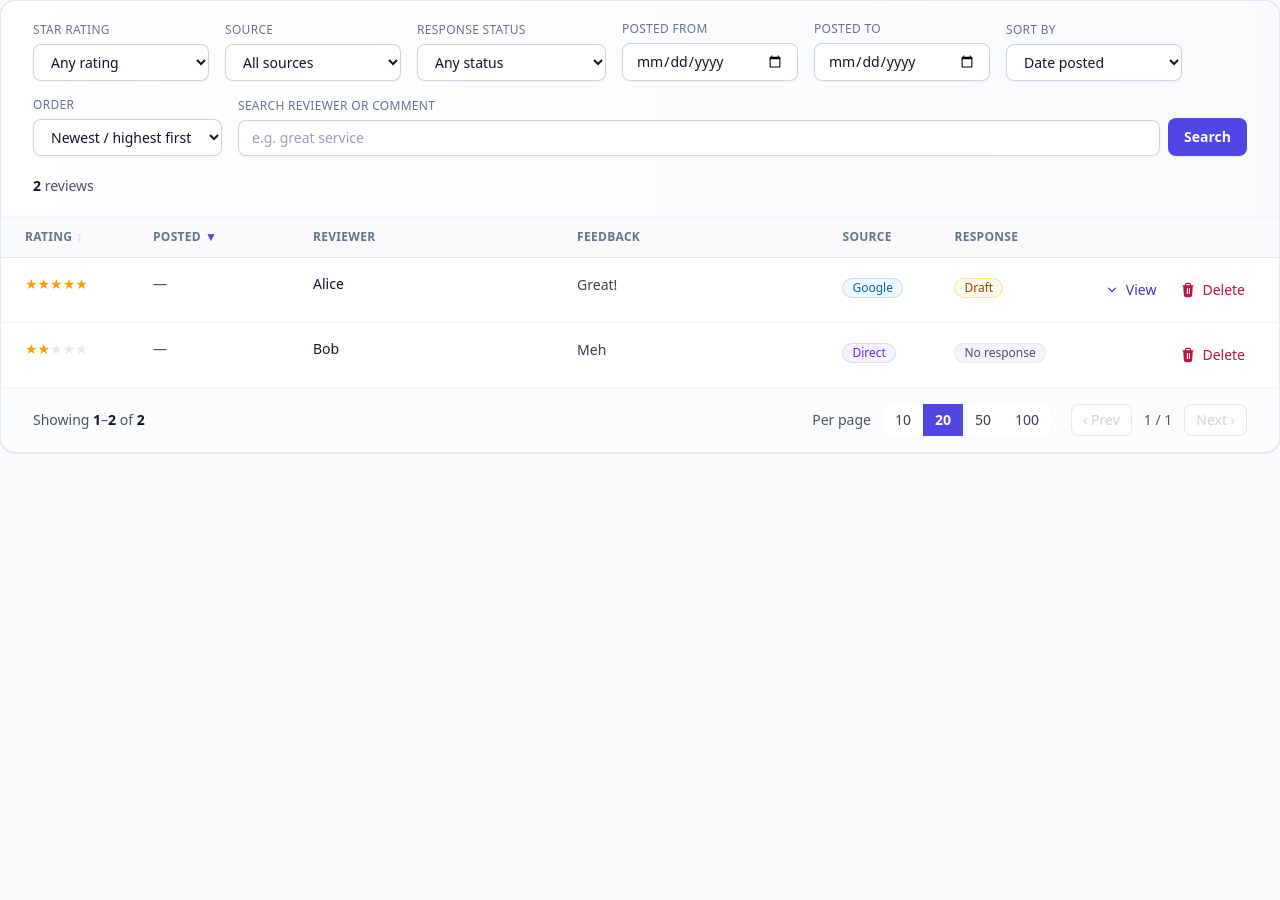
Test: Review Management — ReviewPanel › AI response workflow — expand, accept, regenerate › surfaces an error-toast when regeneration is blocked by moderation
Click the button "View" at [1130, 290], box [1094,274,1166,306]
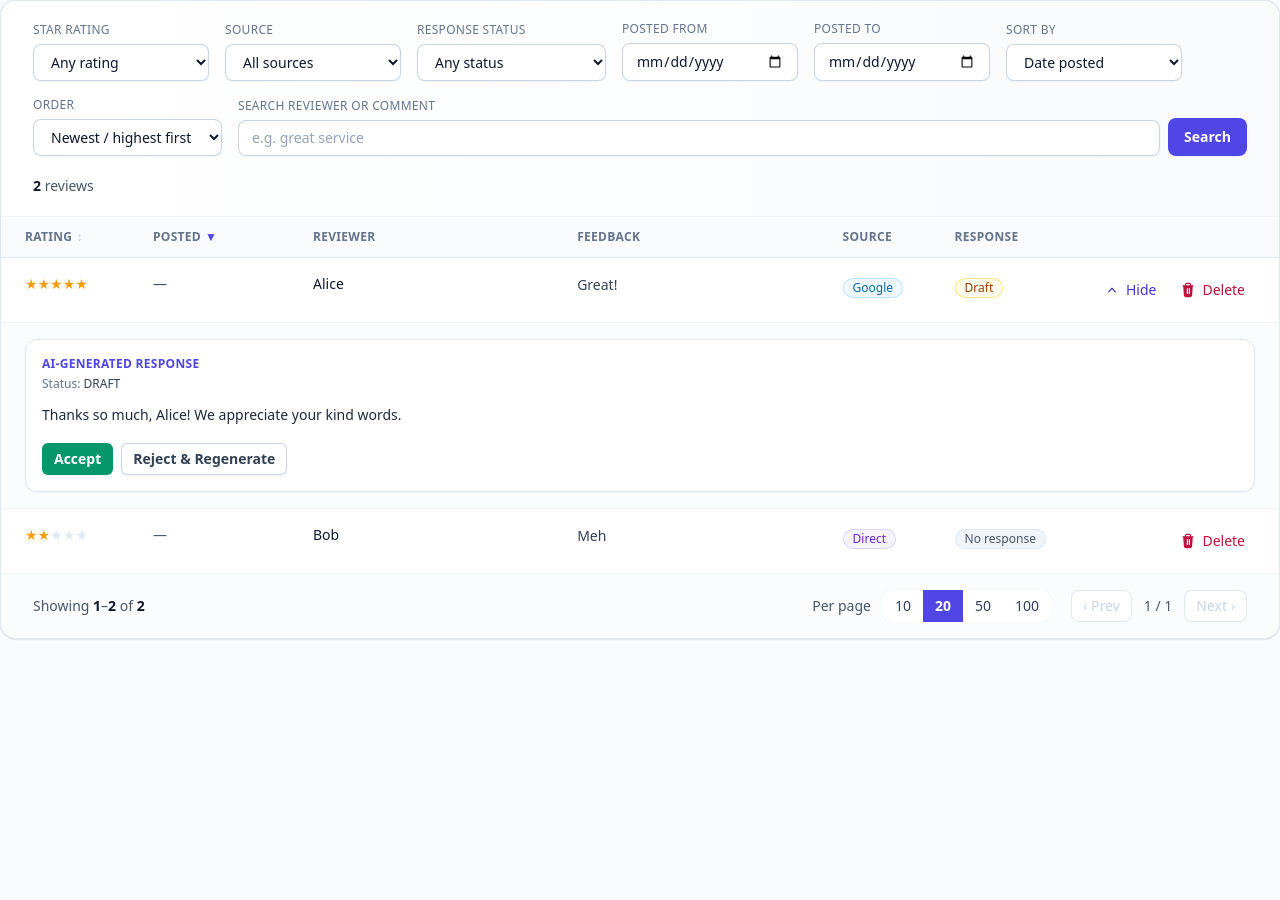
Click the button with test id "regenerate-response-r1" at [204, 459], box [121,443,287,475]
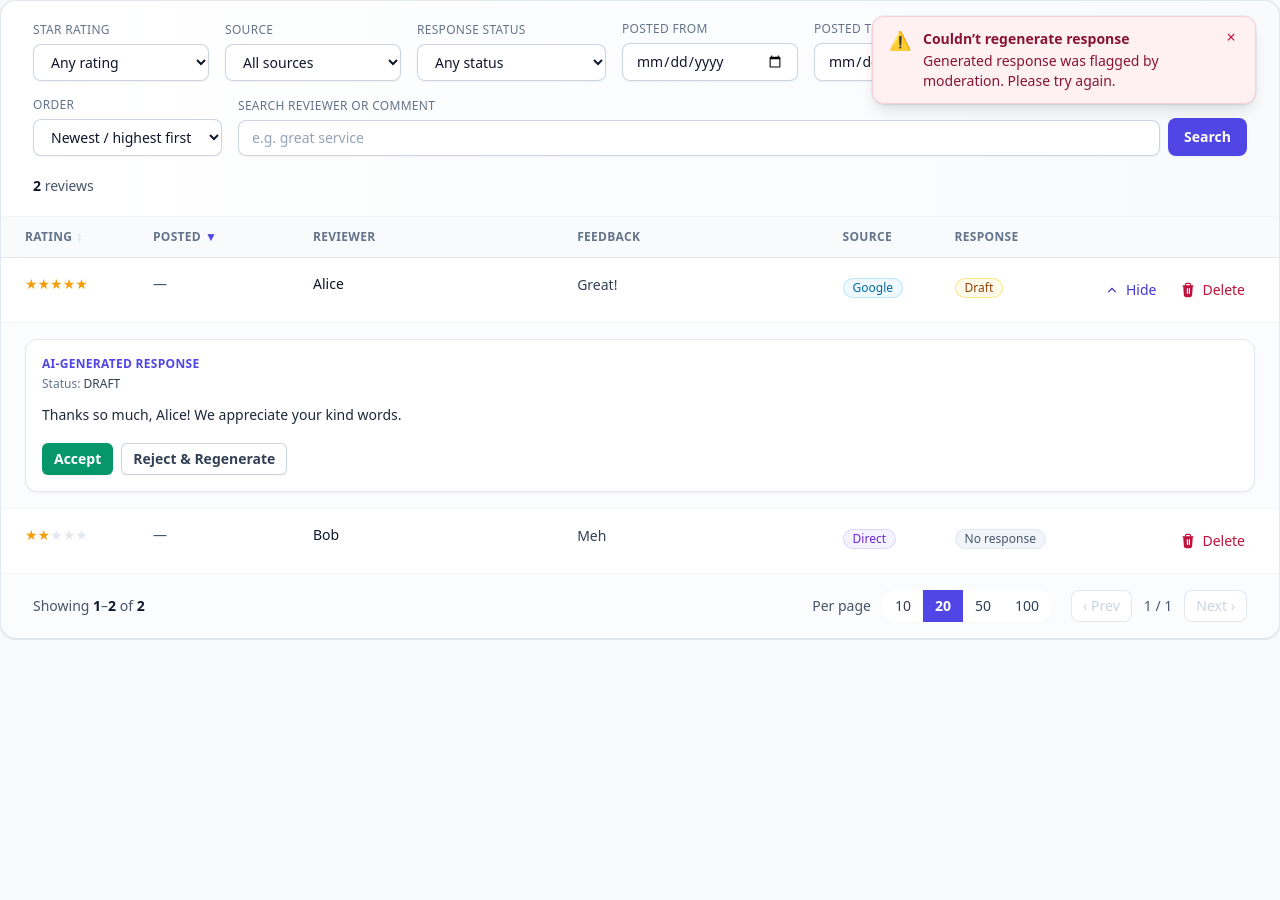
Result: the message shows "couldn.t regenerate response" at [923,29,1130,48]
Result: the message shows "moderation" at [923,51,1159,90]
Click the button named "dismiss notification" at [1231, 37], box [1219,25,1243,49]
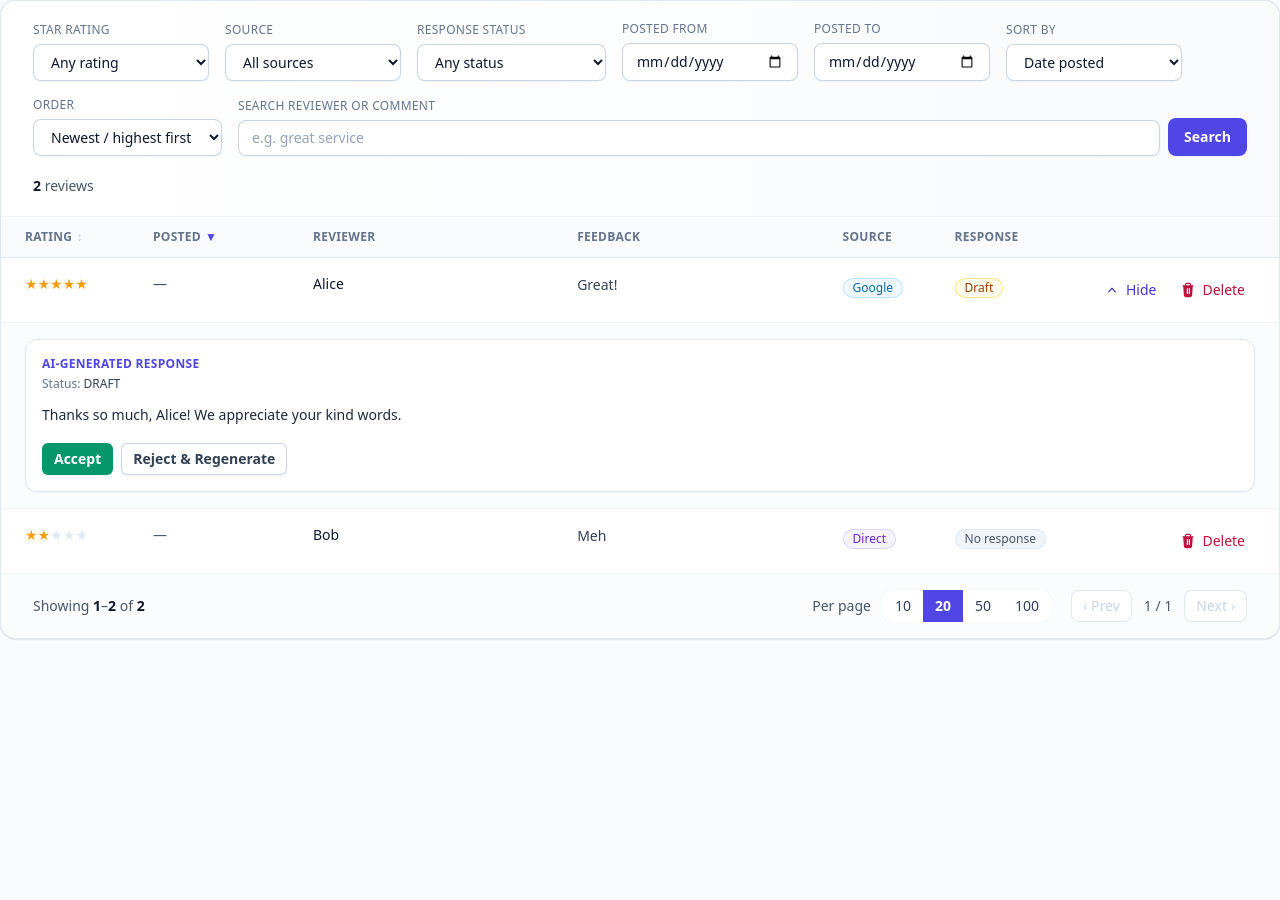
Result: the message is gone
